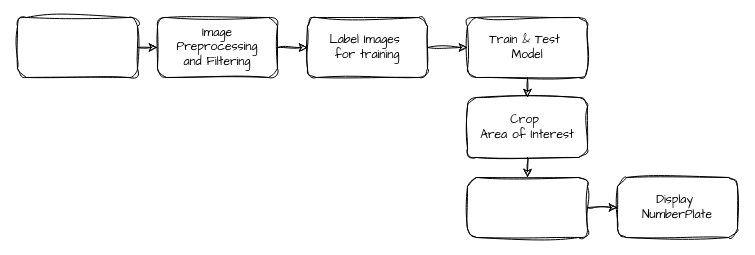
Image size: 755x255. Some labels were removed from this diagram. Each missing label, with the centre of its shape:
Collect Image Data: point (77, 47)
OCR Extraction: point (527, 207)
